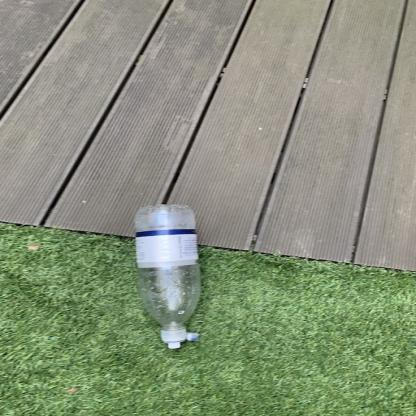trash: (130, 201, 206, 355)
